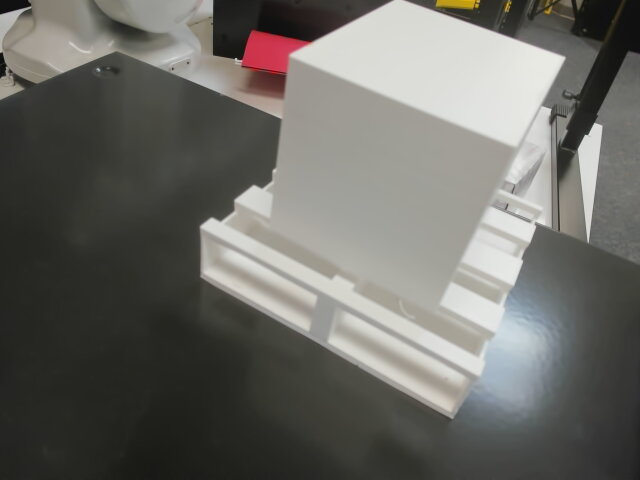white pallet: (196, 0, 570, 425), (377, 424, 379, 439)
